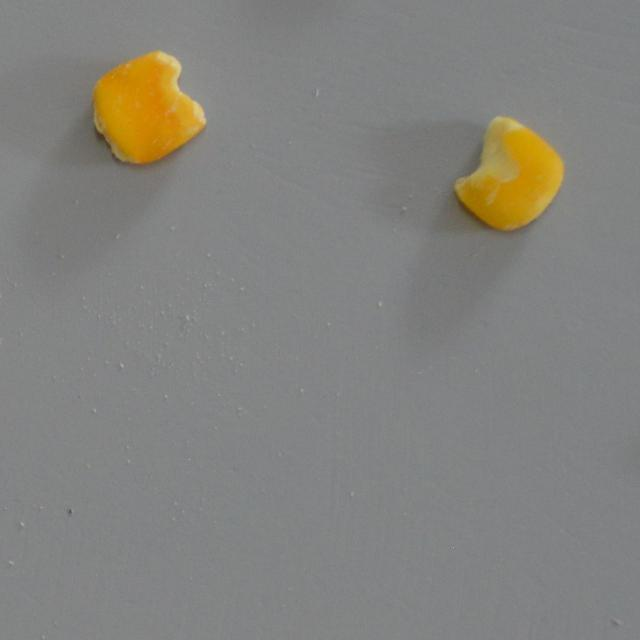pelicula: (88, 50, 206, 168), (446, 118, 565, 235)
